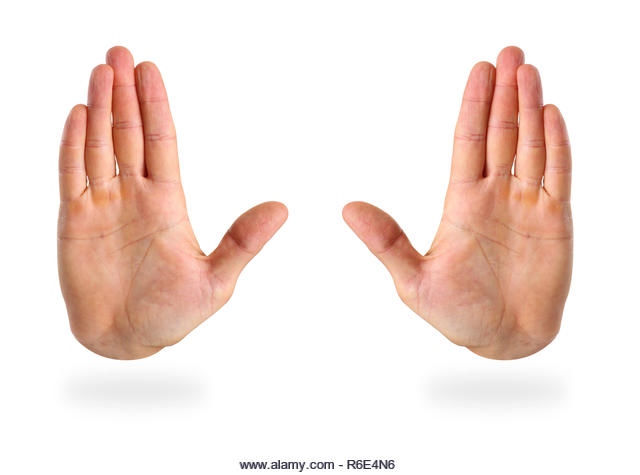non-diseased: (338, 44, 585, 364), (58, 57, 293, 356)
